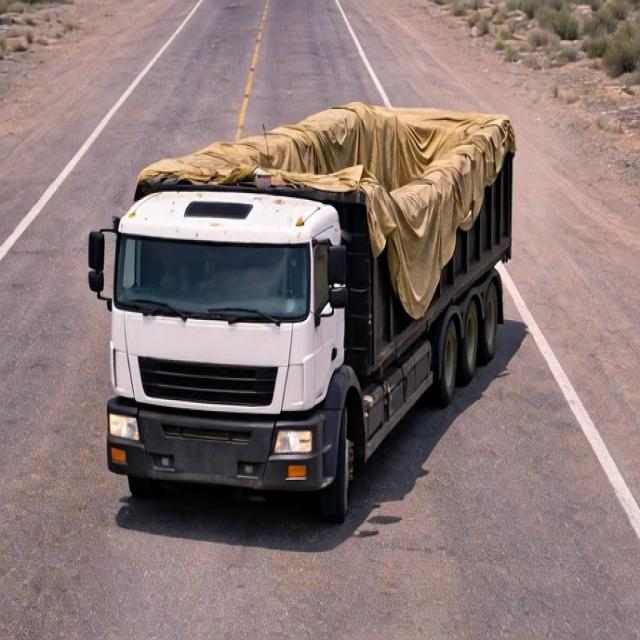trailer: (139, 88, 506, 185)
truck: (88, 54, 538, 497)
